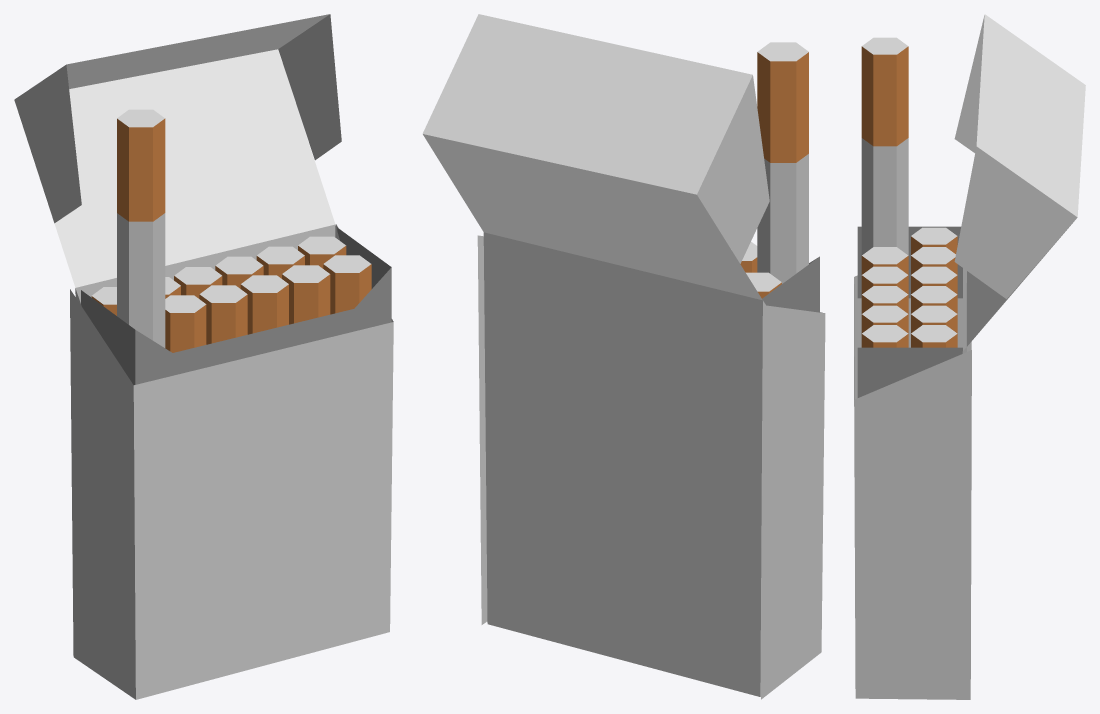
The model's file is Cigarette_O.fbx.
The picture shows the model from 3 angles, left to right: view 1: azimuth 30°, elevation 25°; view 2: azimuth 150°, elevation 25°; view 3: azimuth 270°, elevation 25°; orthographic projection. The views are drawn at different scales.
Visible parts, largest first — view 1: cigarette open; view 2: cigarette open; view 3: cigarette open.
Part boxes in pixels (x1,y1,x2,y2): cigarette open: [14, 14, 393, 699]; cigarette open: [422, 14, 825, 699]; cigarette open: [854, 14, 1085, 699].
Size of the model in its own units: 5.61 by 11.84 by 4.37.
